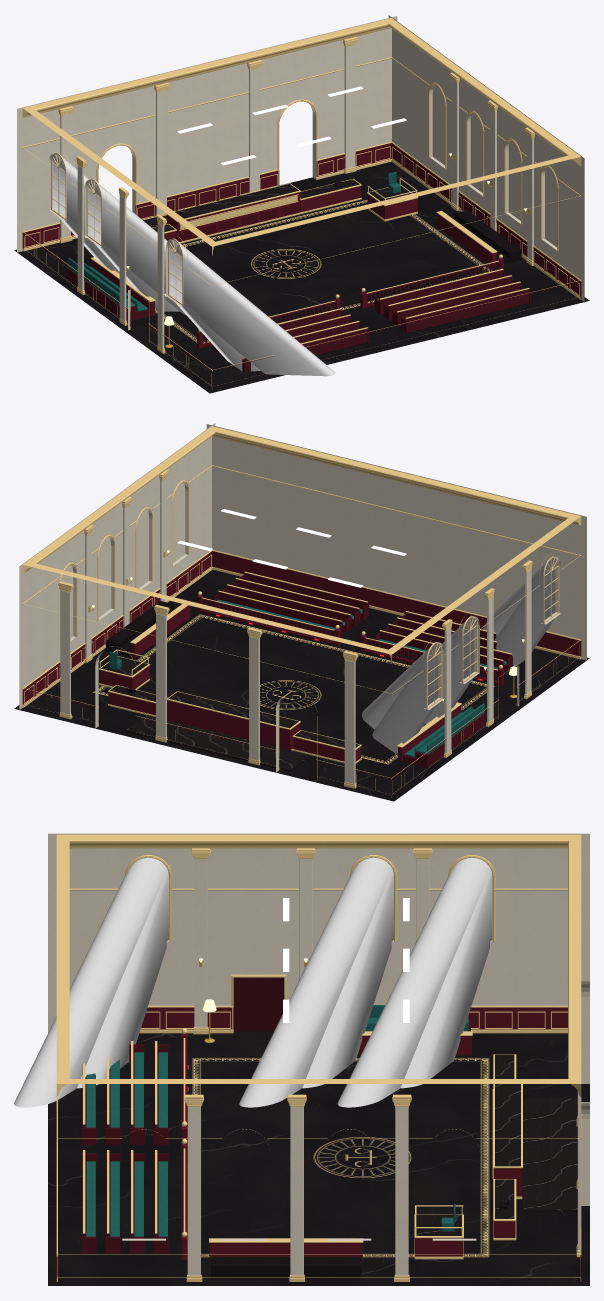
The model's file is pretty-until-proven-guilty.glb.
The picture shows the model from 3 angles, top to bottom: view 1: azimuth 30°, elevation 25°; view 2: azimuth 150°, elevation 25°; view 3: azimuth 270°, elevation 25°; orthographic projection. The views are drawn at different scales.
Visible parts, largest first — view 1: set.ppg_plaster, set.ppg_floor.mirror.nocast, set.ppg_gold, shafts.day, set.ppg_oxblood, set.ppg_oxblood_rail, set.ppg_gold.hidden, shafts.night, set.ppg_dais, set.ppg_brass, set.ppg_black, set.ppg_teal (+1 smaller); view 2: set.ppg_plaster.hidden, set.ppg_floor.mirror.nocast, set.ppg_plaster, set.ppg_gold, set.ppg_oxblood_rail, set.ppg_oxblood, shafts.night, set.ppg_dais, set.ppg_gold.hidden, set.ppg_oxblood.hidden, shafts.day, set.ppg_teal (+3 smaller); view 3: set.ppg_floor.mirror.nocast, set.ppg_plaster, shafts.day, set.ppg_gold, shafts.night, set.ppg_dais, set.ppg_oxblood, set.ppg_teal, set.ppg_oxblood_rail, set.ppg_gold.hidden, set.ppg_black, set.ppg_door (+1 smaller).
Boxes of the visible parts, <box> form: set.ppg_plaster: <box>17,15,584,348</box>; set.ppg_floor.mirror.nocast: <box>14,161,589,393</box>; set.ppg_gold: <box>22,18,581,388</box>; shafts.day: <box>52,157,335,376</box>; set.ppg_oxblood: <box>22,143,581,389</box>; set.ppg_oxblood_rail: <box>66,204,530,372</box>; set.ppg_gold.hidden: <box>212,155,580,385</box>; shafts.night: <box>53,154,260,371</box>; set.ppg_dais: <box>143,179,411,232</box>; set.ppg_brass: <box>51,153,183,305</box>; set.ppg_black: <box>334,180,521,265</box>; set.ppg_teal: <box>67,172,400,311</box>; set.ppg_plaster.hidden: <box>206,424,586,661</box>; set.ppg_floor.mirror.nocast: <box>14,569,589,801</box>; set.ppg_plaster: <box>19,423,561,783</box>; set.ppg_gold: <box>22,426,580,797</box>; set.ppg_oxblood_rail: <box>199,573,512,767</box>; set.ppg_oxblood: <box>22,551,580,796</box>; shafts.night: <box>372,558,556,753</box>; set.ppg_dais: <box>101,656,359,771</box>; set.ppg_gold.hidden: <box>212,426,581,659</box>; set.ppg_oxblood.hidden: <box>212,551,581,656</box>; shafts.day: <box>362,561,547,729</box>; set.ppg_teal: <box>109,599,506,757</box>; set.ppg_floor.mirror.nocast: <box>48,1031,589,1285</box>; set.ppg_plaster: <box>48,833,589,1275</box>; shafts.day: <box>14,857,490,1107</box>; set.ppg_gold: <box>57,834,581,1281</box>; shafts.night: <box>77,868,492,1088</box>; set.ppg_dais: <box>416,1054,577,1235</box>; set.ppg_oxblood: <box>141,1007,581,1281</box>; set.ppg_teal: <box>86,1005,468,1236</box>; set.ppg_oxblood_rail: <box>81,1018,470,1253</box>; set.ppg_gold.hidden: <box>56,835,69,1281</box>; set.ppg_black: <box>210,1199,509,1279</box>; set.ppg_door: <box>233,977,283,1031</box>.
Bounding box in the file's own units: 27.8 × 10.1 × 26.35.
17 materials, 9 textured.
